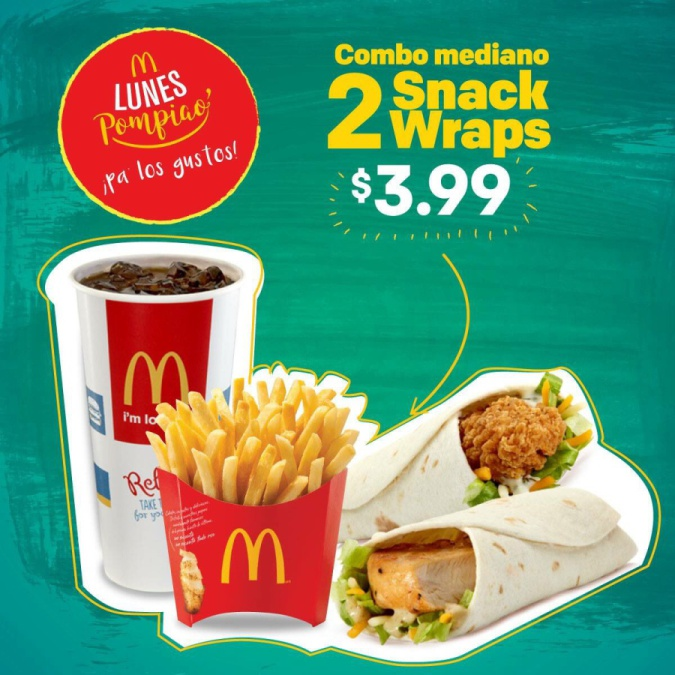mcdonalds: (210, 524, 300, 597), (119, 346, 191, 418)
